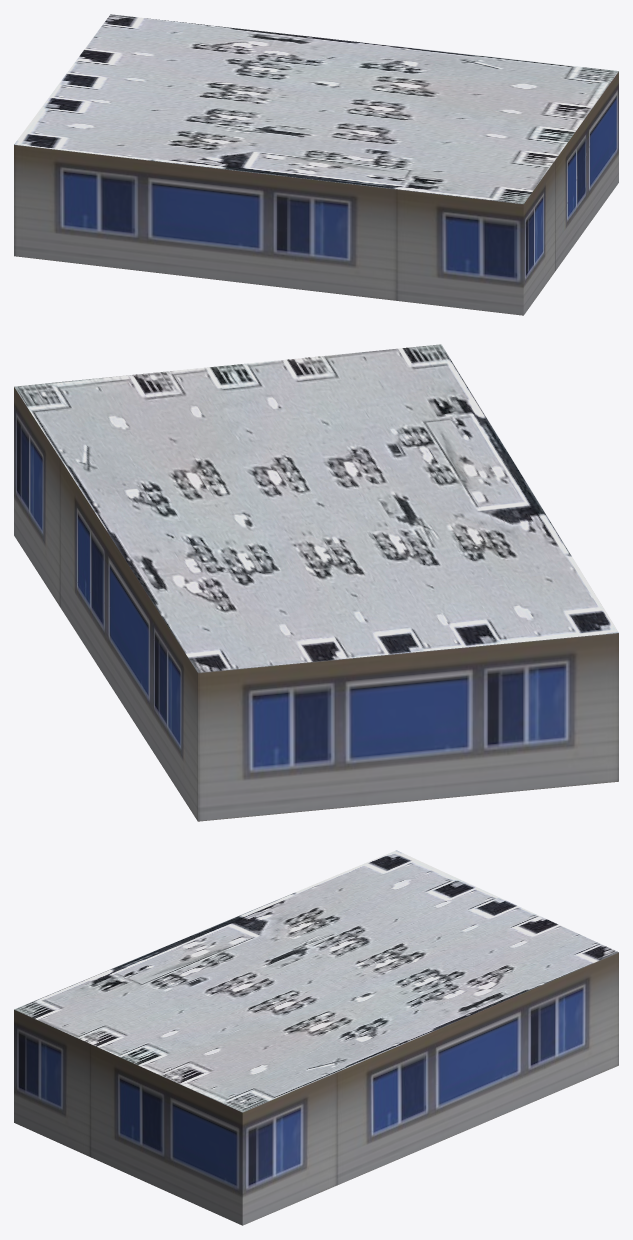
The model's file is ResTex__2360.fbx.
3 views of the same model, one above another, from view 1: azimuth 30°, elevation 25°; view 2: azimuth 150°, elevation 25°; view 3: azimuth 270°, elevation 25° (orthographic). The views are drawn at different scales.
Visible parts, largest first — view 1: CityEngineMaterial_m, CityEngineMaterial_23_m; view 2: CityEngineMaterial_m, CityEngineMaterial_23_m; view 3: CityEngineMaterial_m, CityEngineMaterial_23_m.
Boxes of the visible parts, bbox=[...] form: CityEngineMaterial_m: bbox=[14, 14, 618, 203]; CityEngineMaterial_23_m: bbox=[14, 71, 618, 315]; CityEngineMaterial_m: bbox=[14, 344, 618, 672]; CityEngineMaterial_23_m: bbox=[14, 387, 618, 821]; CityEngineMaterial_m: bbox=[14, 850, 618, 1112]; CityEngineMaterial_23_m: bbox=[14, 952, 618, 1225].
Bounding box in the file's own units: 14.9 × 3 × 14.52.
Materials: 2 (2 with a texture image).
